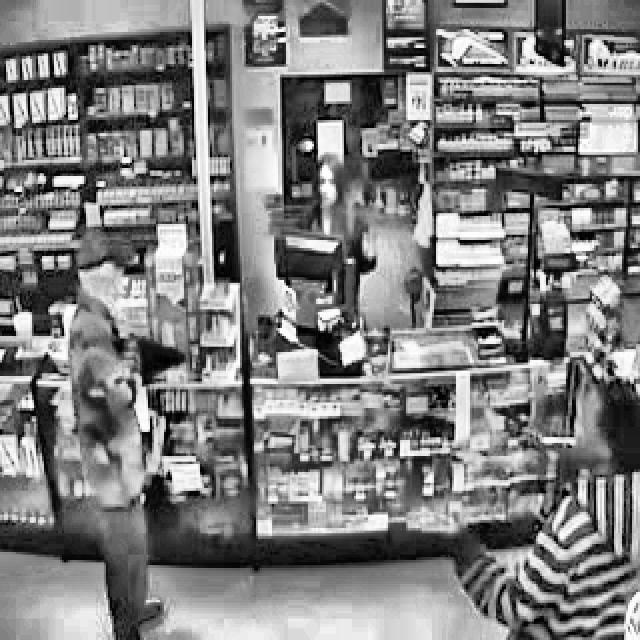robbery: (66, 221, 187, 640), (272, 146, 380, 279)
